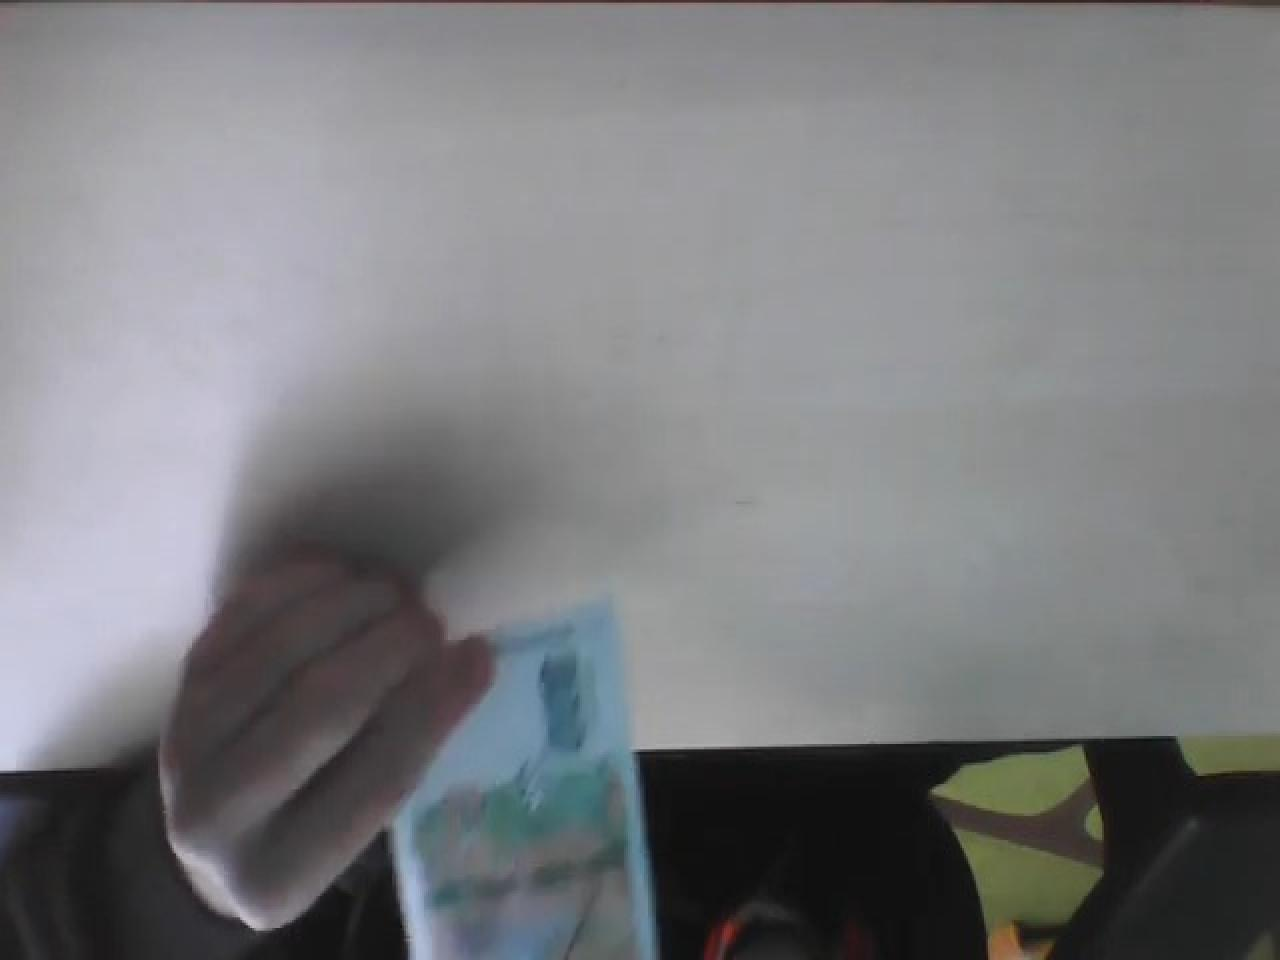100leva: (388, 595, 660, 960)
